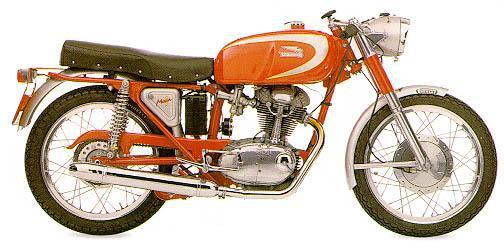motorcycle: (9, 4, 504, 243)
